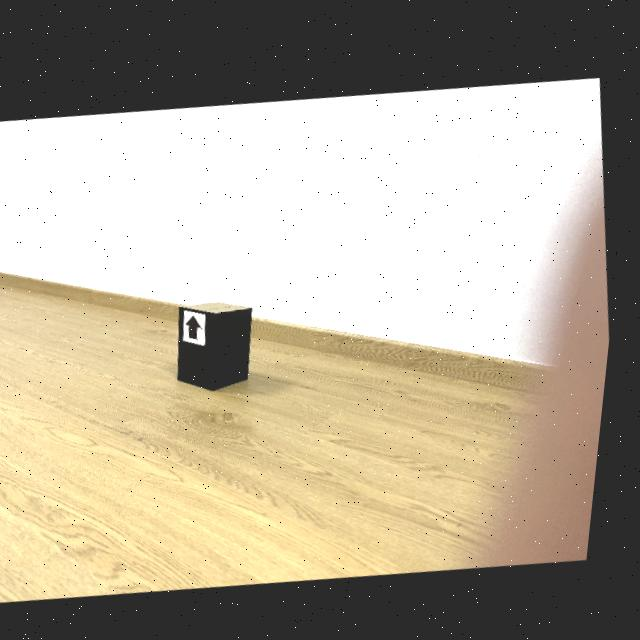UP: (193, 312, 209, 337)
